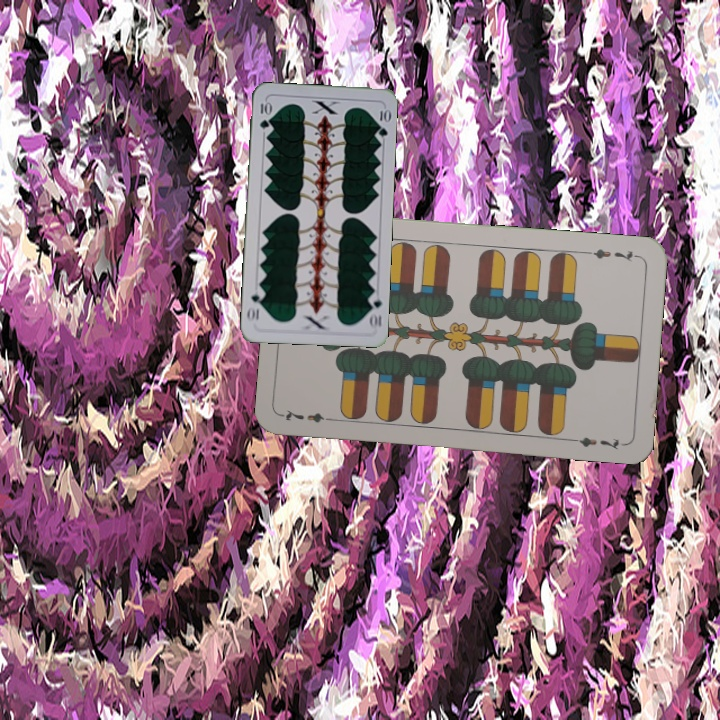E7: (279, 405, 338, 425), (582, 245, 641, 264)
G10: (365, 290, 384, 331), (256, 97, 272, 131)
